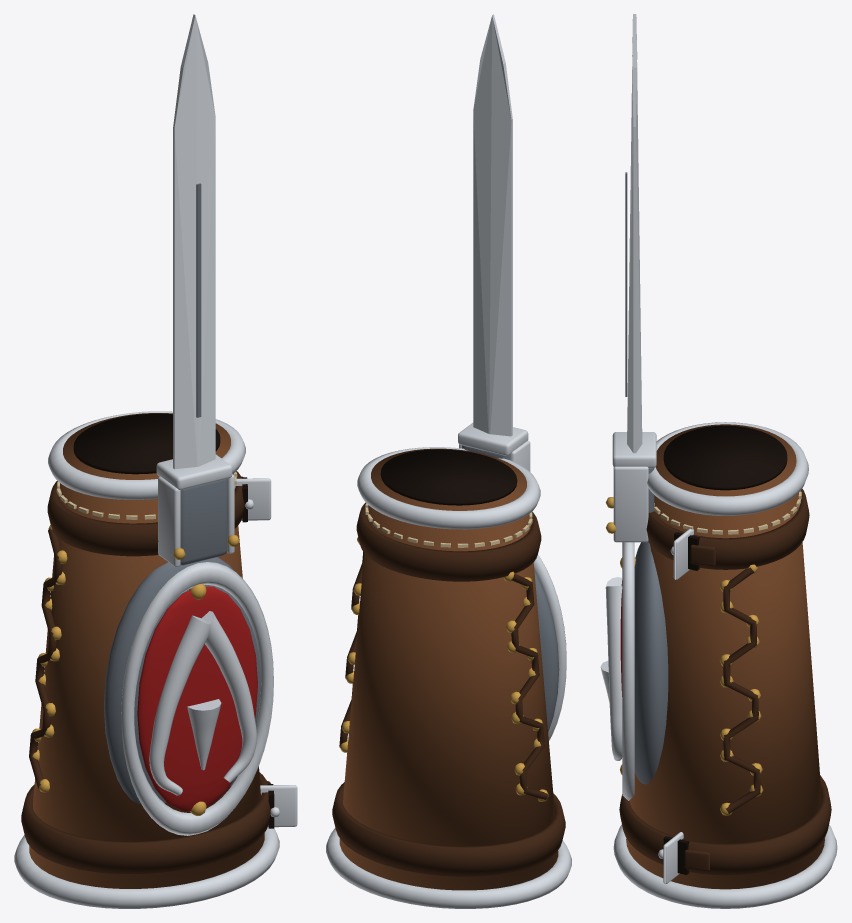
Rendered from hidden_blade.glb.
3 views of the same model, side by side, from view 1: azimuth 30°, elevation 25°; view 2: azimuth 150°, elevation 25°; view 3: azimuth 270°, elevation 25° (orthographic). The views are drawn at different scales.
Parts seen in each view (by area): view 1: hidden_blade; view 2: hidden_blade; view 3: hidden_blade.
Boxes of the visible parts, bbox=[...] form: hidden_blade: bbox=[14, 14, 297, 908]; hidden_blade: bbox=[326, 14, 571, 908]; hidden_blade: bbox=[600, 14, 837, 908].
Size of the model in its own units: 0.2831 by 1 by 0.2547.
